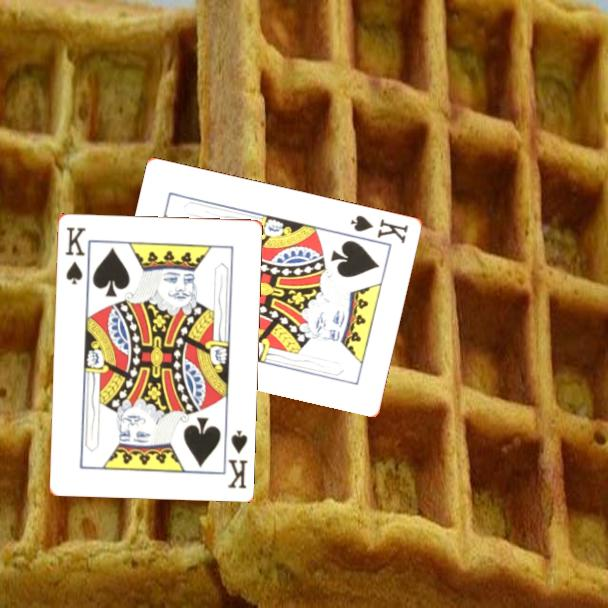s13: (347, 211, 412, 246), (224, 426, 250, 491), (62, 223, 88, 287)
